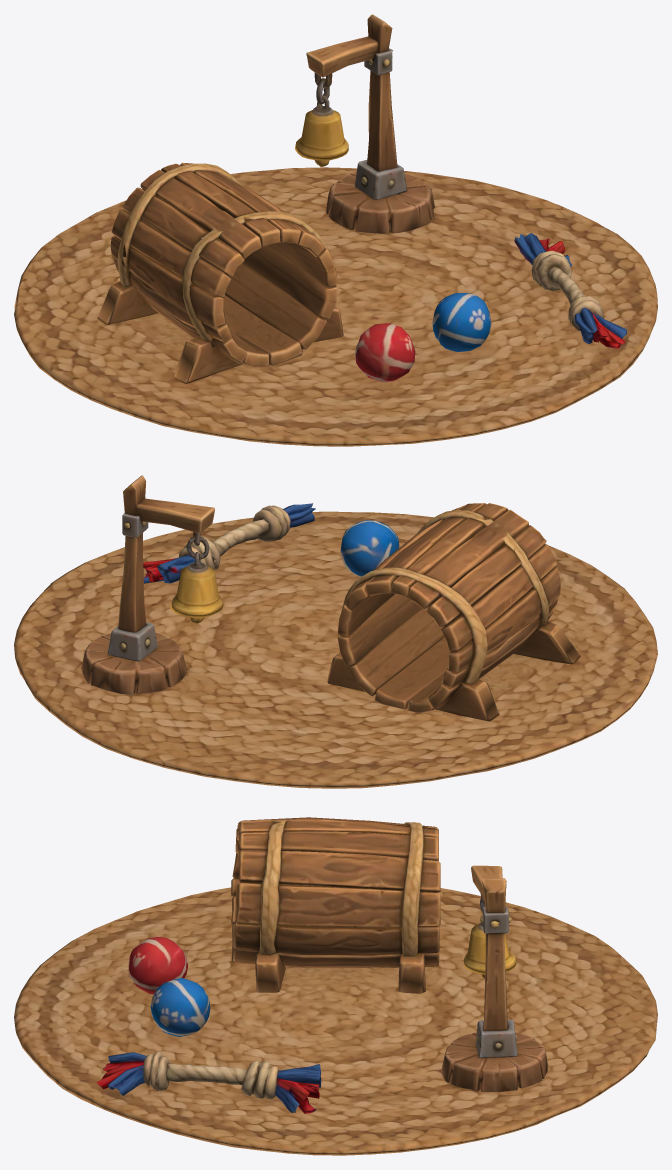
Rendered from enclos_jouets.glb.
3 views of the same model, one above another, from view 1: azimuth 30°, elevation 25°; view 2: azimuth 150°, elevation 25°; view 3: azimuth 270°, elevation 25° (orthographic).
Visible parts, largest first — view 1: geometry_0; view 2: geometry_0; view 3: geometry_0.
Boxes of the visible parts, left/top/right/bottom form: geometry_0: left=14, top=14, right=657, bottom=446; geometry_0: left=14, top=475, right=657, bottom=788; geometry_0: left=14, top=817, right=657, bottom=1155.
Size of the model in its own units: 0.9575 by 0.3281 by 0.9571.
Materials: 1 (1 with a texture image).
